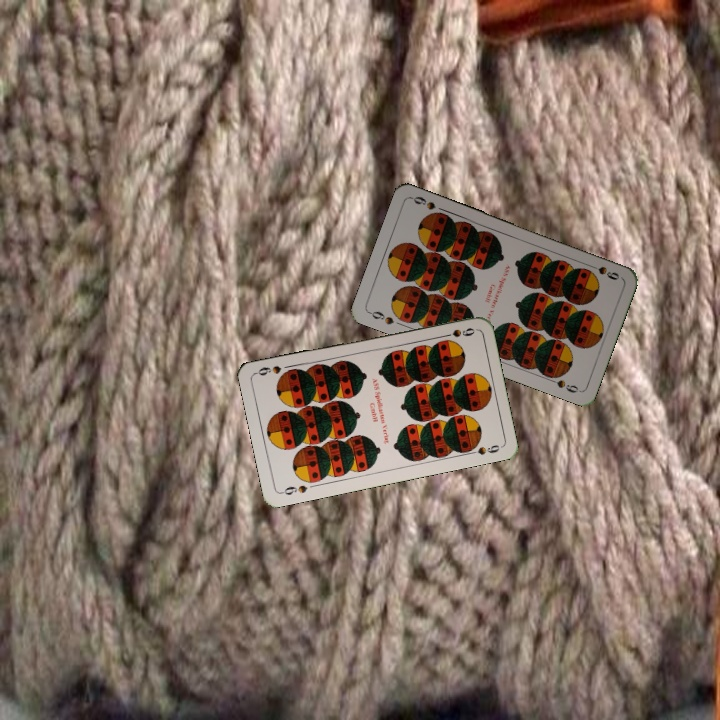S9: (584, 260, 622, 283), (437, 324, 478, 340), (365, 307, 396, 327), (277, 481, 310, 497)
